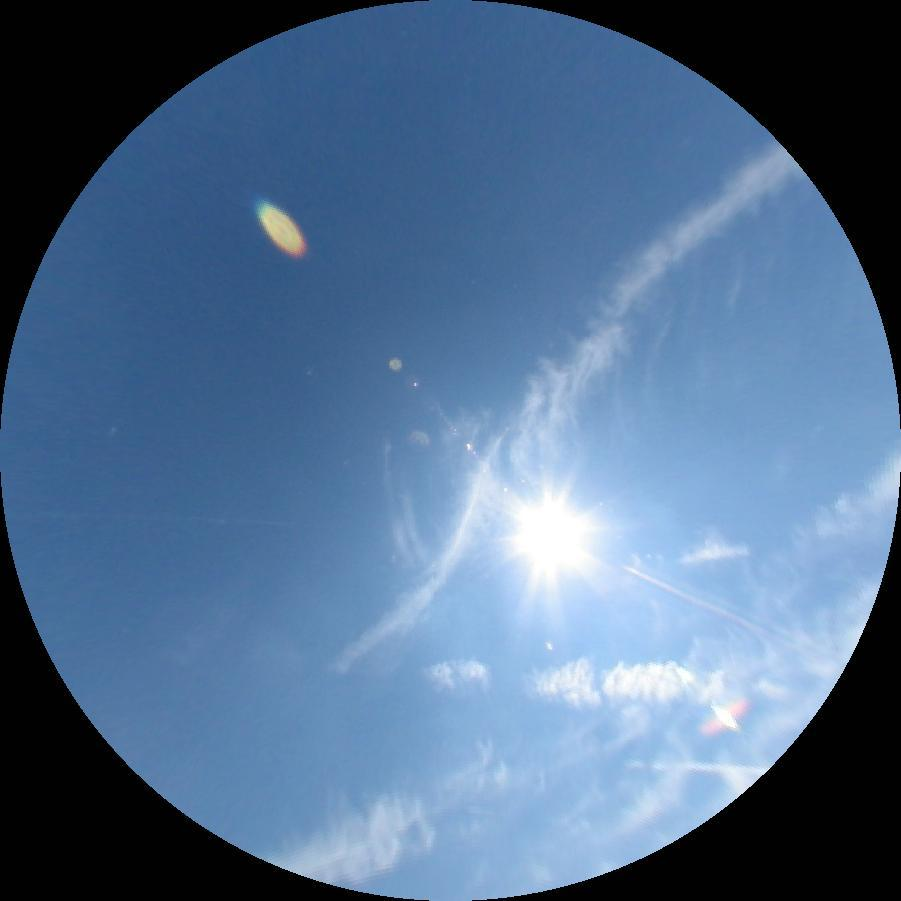contrail veryold: (299, 116, 802, 694), (425, 656, 724, 708)
parasite: (617, 561, 799, 651)
sun: (513, 496, 586, 565)
unknow: (624, 759, 770, 775)
